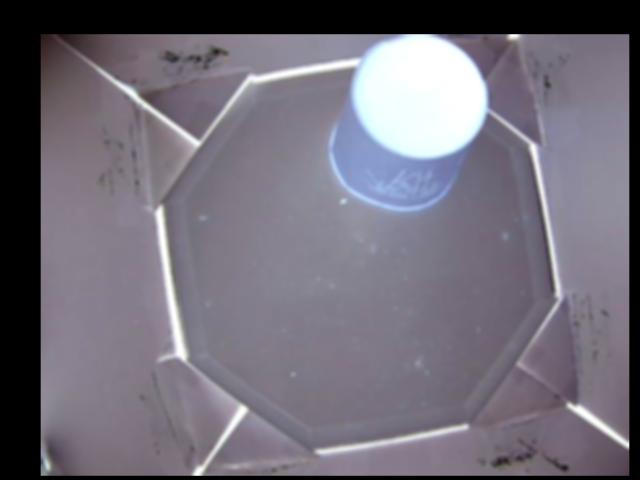Cup: (330, 37, 489, 212)
